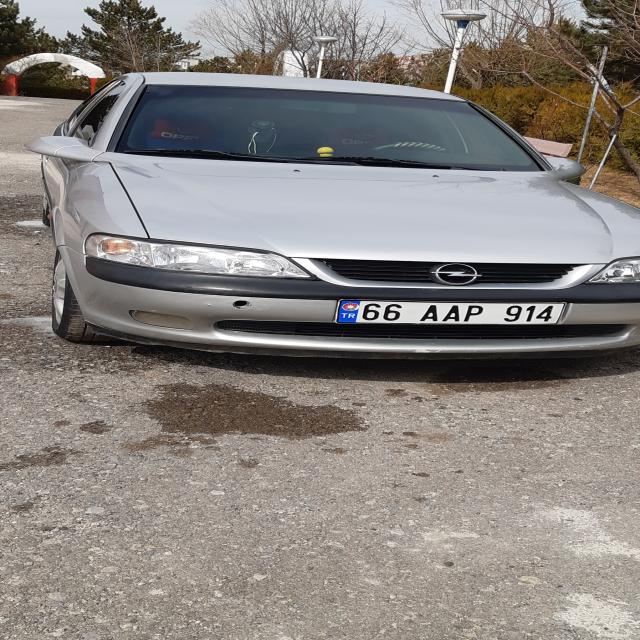plate: (334, 300, 566, 325)
